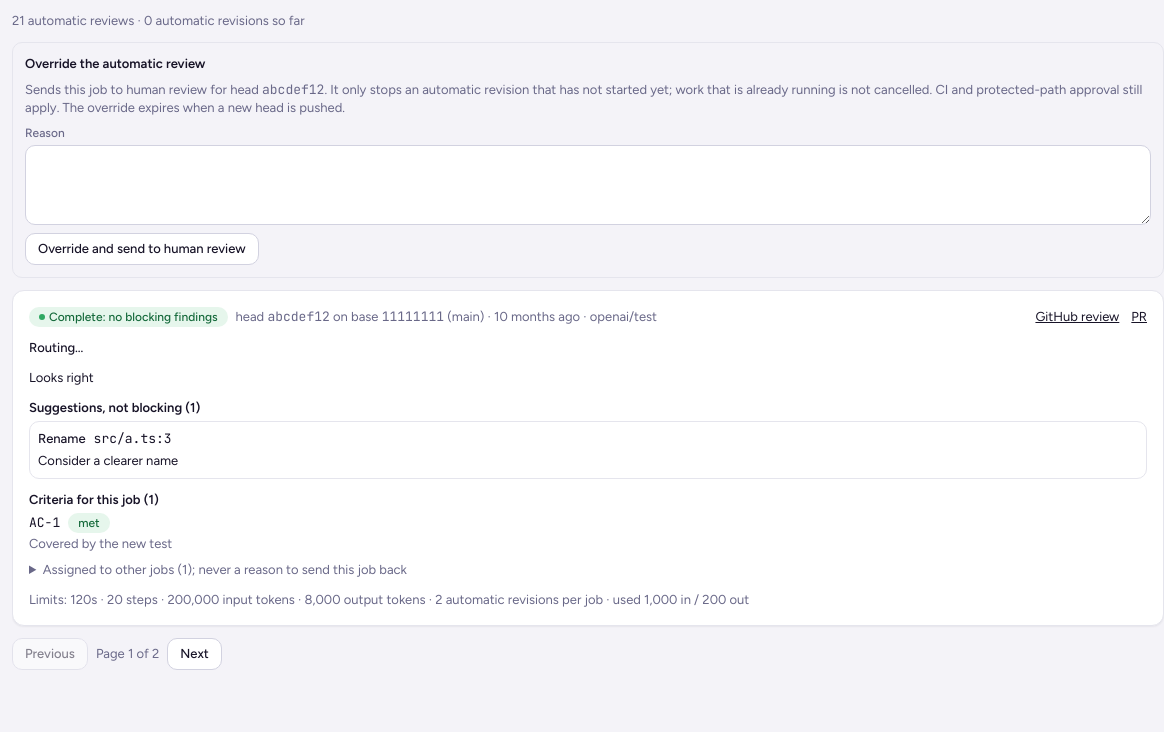
Test case: JobReviews › pages through older reviews
The image size is (1164, 732).
Expected: the text "Page 1 of 2" is shown, [96,645,159,663]
Click the button "Next" at (195, 654), box [167,638,222,670]
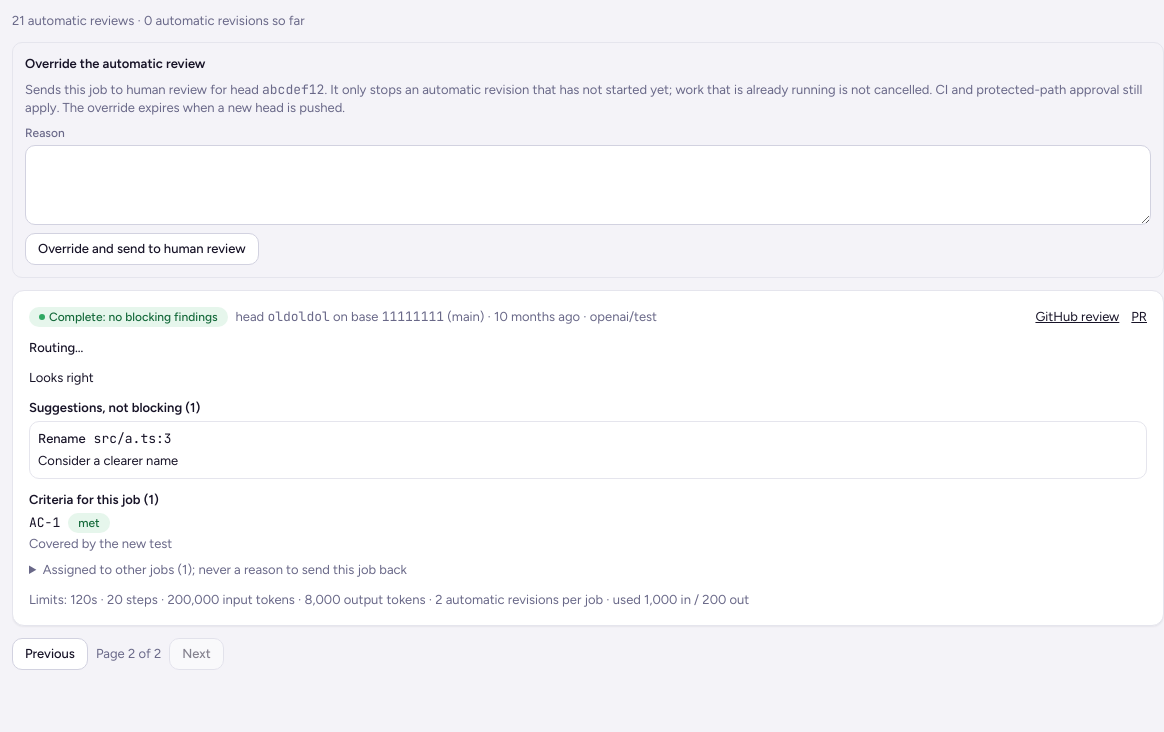
Expected: the text "oldoldol" is shown, [267,308,330,325]
Expected: the text "Page 2 of 2" is shown, [96,645,161,663]
